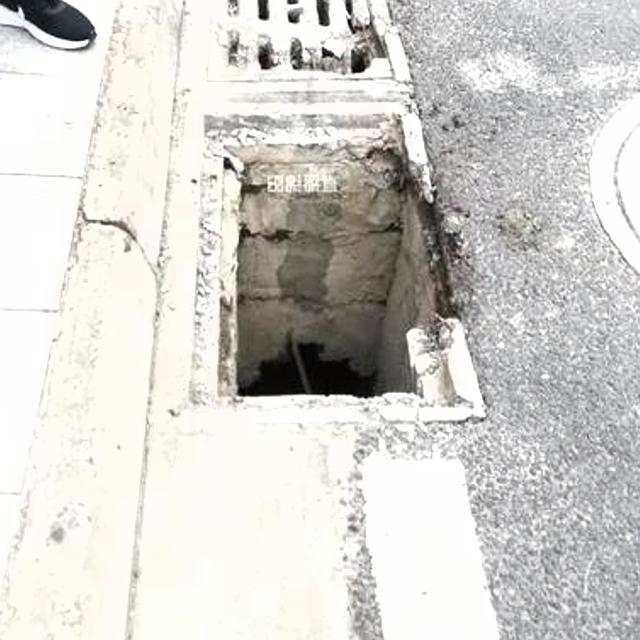lose: (148, 72, 497, 452)
